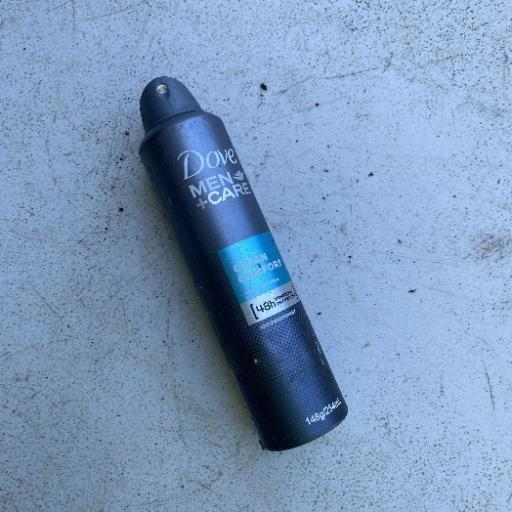Metal: (135, 74, 350, 454)
